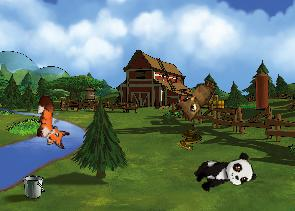fox: (33, 95, 72, 149)
owl: (171, 70, 218, 124)
panda: (191, 150, 257, 196)
